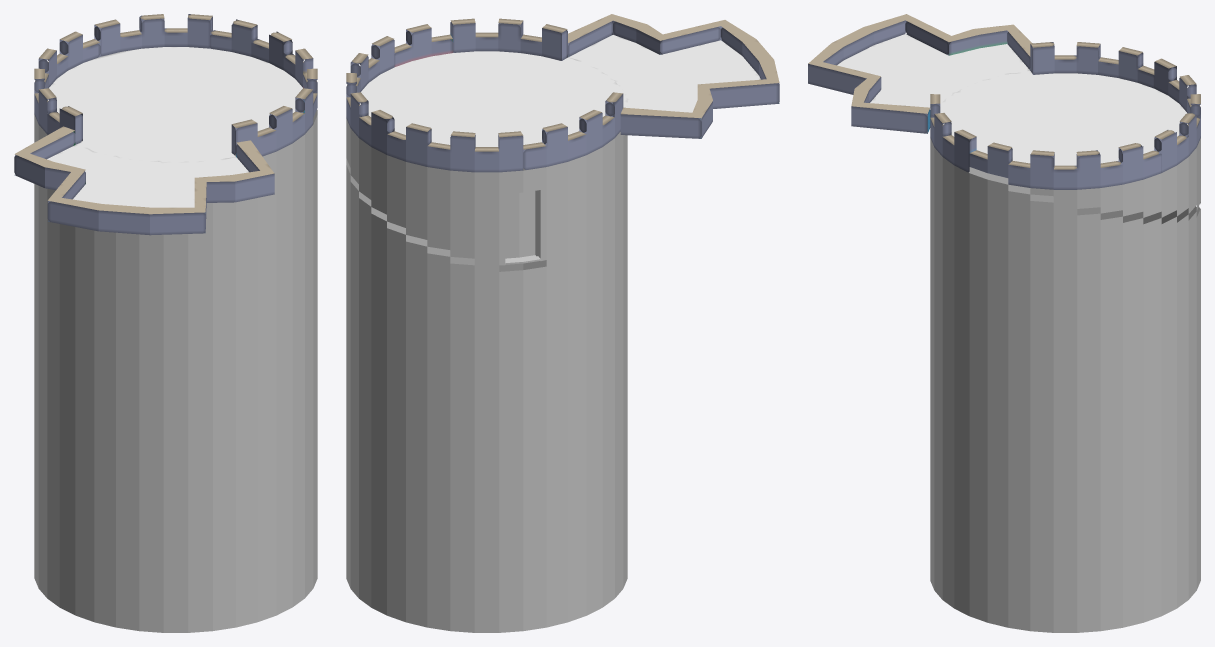
File: fantasystaircase.fbx
3 renders of one model, left to right at view 1: azimuth 30°, elevation 25°; view 2: azimuth 150°, elevation 25°; view 3: azimuth 270°, elevation 25°, orthographic. The views are drawn at different scales.
Parts seen in each view (by area): view 1: cylinder, cylinder_selection_1, cylinder_selection; view 2: cylinder, cylinder_selection_1, cylinder_selection; view 3: cylinder, cylinder_selection_1, cylinder_selection.
Boxes of the visible parts, x1,y1,x2,y2 form: cylinder: (34,87,317,632); cylinder_selection_1: (34,14,317,162); cylinder_selection: (14,126,274,235); cylinder: (346,106,627,632); cylinder_selection_1: (346,18,627,172); cylinder_selection: (568,14,779,138); cylinder: (930,136,1200,632); cylinder_selection_1: (930,42,1200,189); cylinder_selection: (808,14,1032,133).
Bounding box in the file's own units: 307 × 438 × 327.
Materials: 1 (1 with a texture image).
